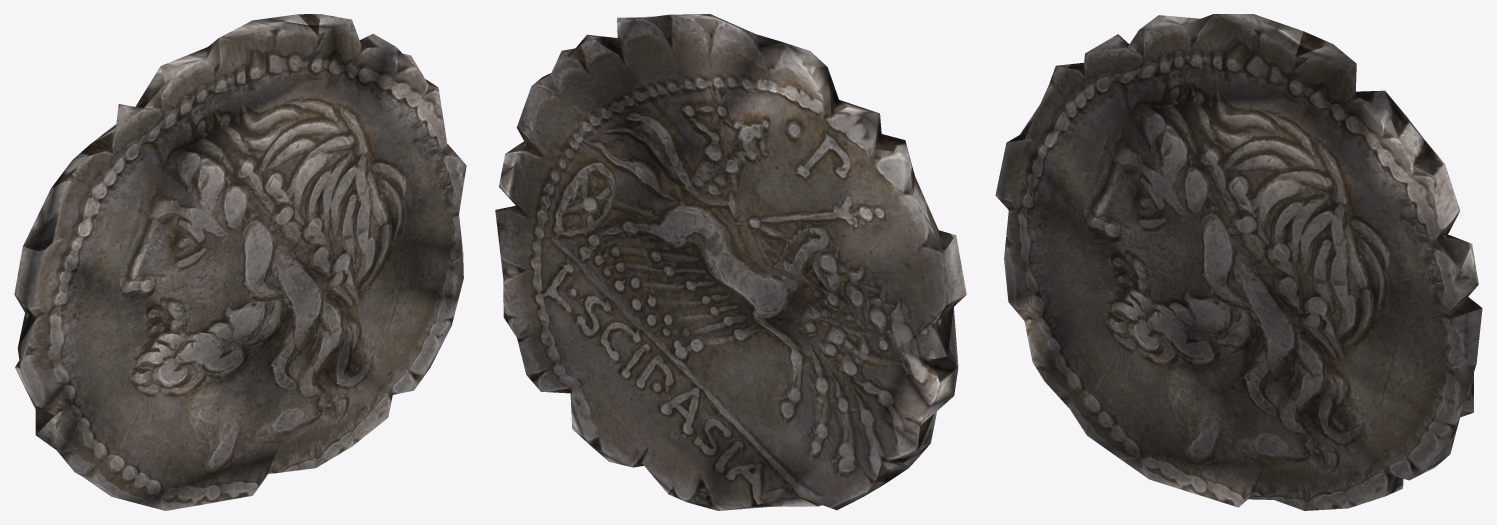
Rendered from Coin_Model.fbx.
3 views of the same model, side by side, from view 1: azimuth 30°, elevation 25°; view 2: azimuth 150°, elevation 25°; view 3: azimuth 330°, elevation 25° (orthographic). The views are drawn at different scales.
Parts seen in each view (by area): view 1: default1; view 2: default1; view 3: default1.
Part boxes in pixels (x1,y1,x2,y2): default1: [14, 14, 466, 510]; default1: [495, 14, 966, 510]; default1: [995, 14, 1482, 510].
Size of the model in its own units: 18 by 18.14 by 2.46.
